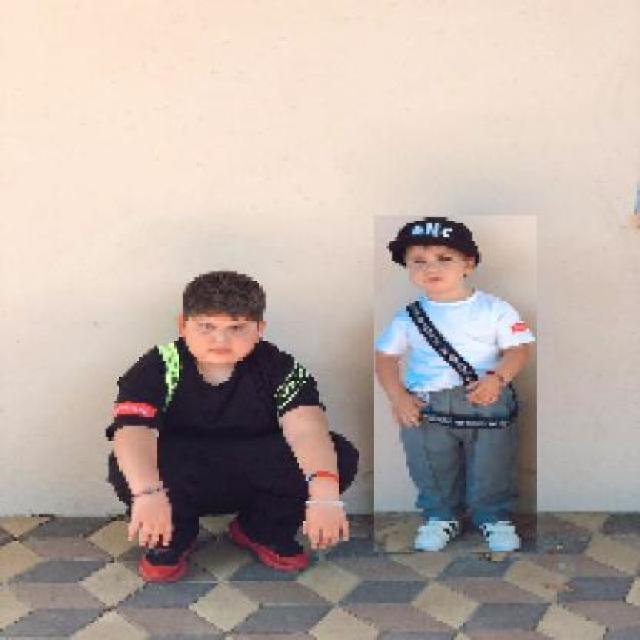child: (372, 215, 537, 554)
